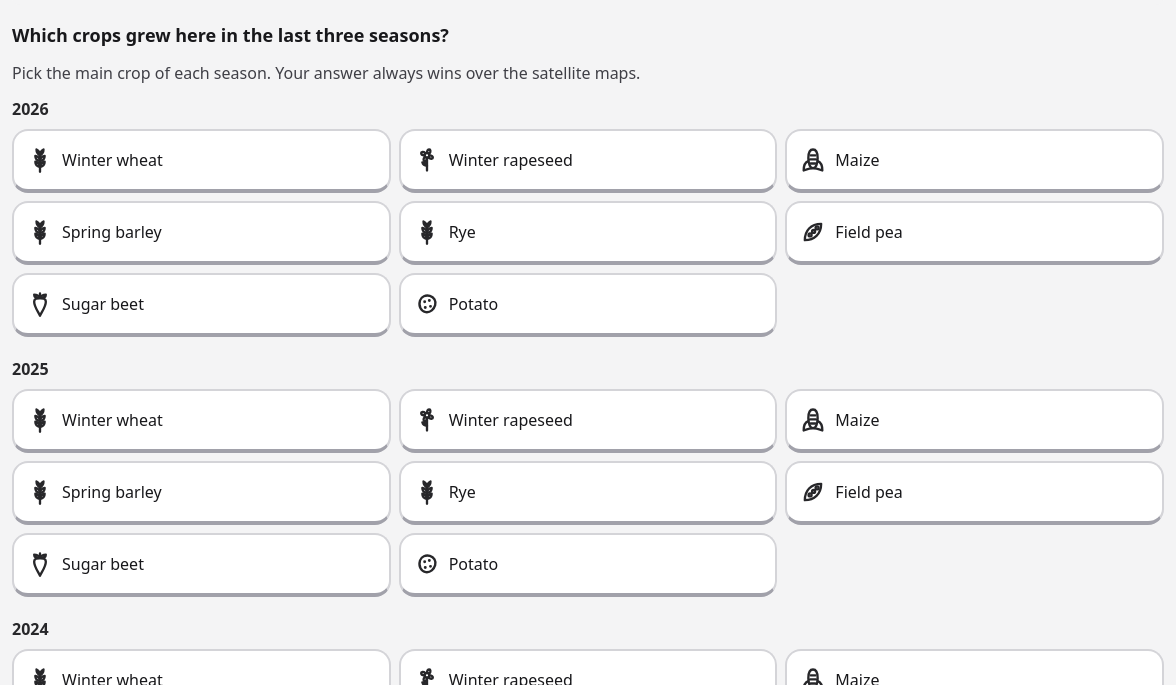
Test case: CropsStep review follow-ups (#76) › says "1 year" for a single saved season
Click the radio button labelled "Winter wheat" below "2026" at (112, 160), box x1=12 y1=129 x2=391 y2=193
(page scrolled)
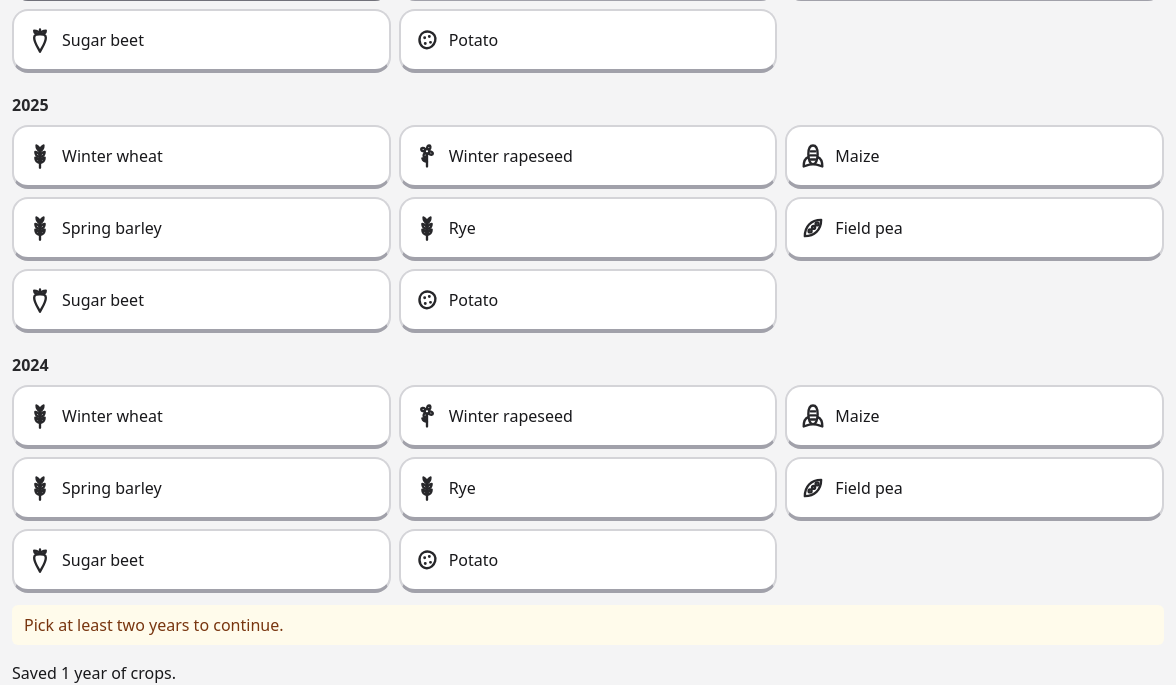
Check: the text "Saved 1 year of crops." is shown, box x1=12 y1=662 x2=176 y2=684
